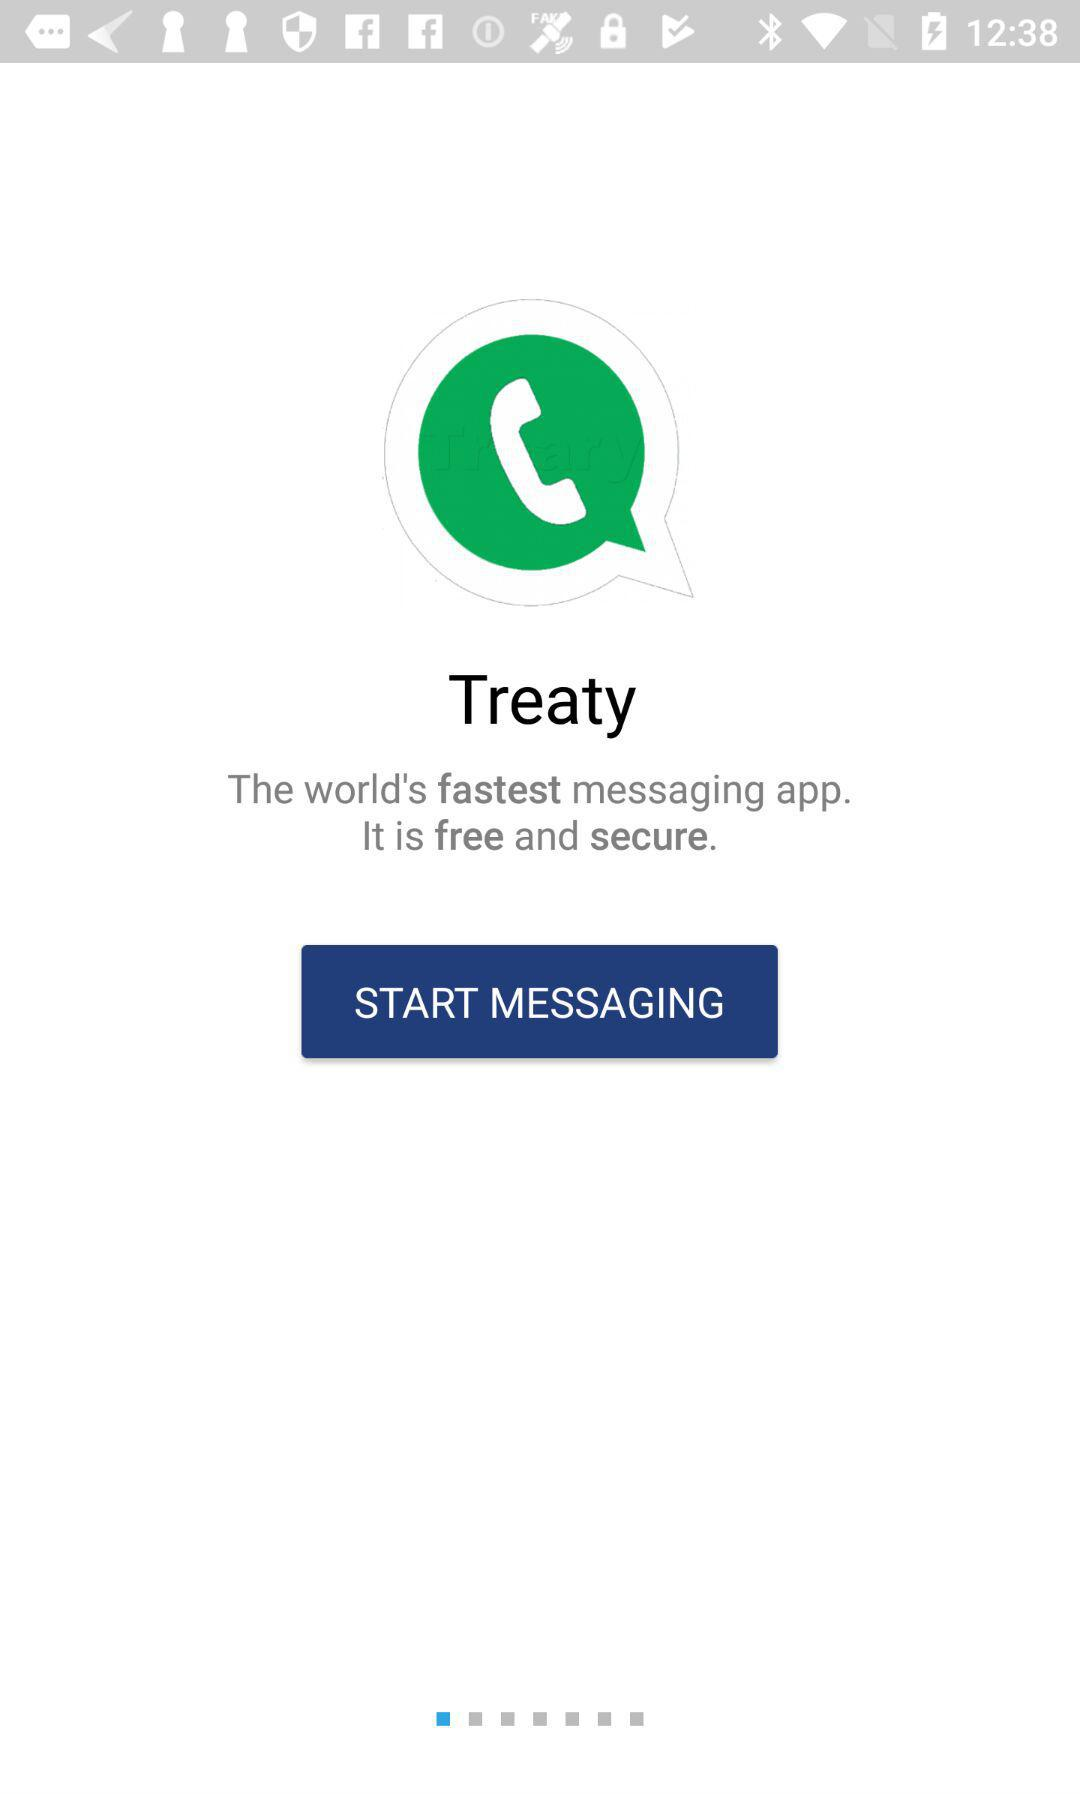Image: (380, 299, 694, 607)
PageIndicator: (436, 1711, 644, 1727)
Text: (228, 771, 851, 852), (448, 674, 638, 739)
TextButton: (301, 944, 779, 1058)
UpperTaskBar: (1, 1, 1080, 64)
